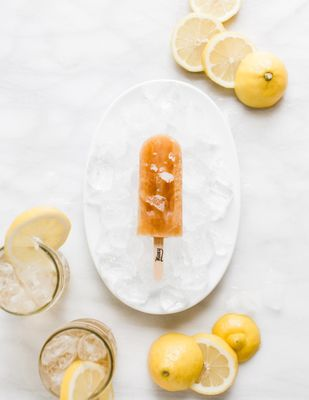pizza: (37, 318, 117, 400)
taco: (169, 2, 291, 109), (148, 332, 204, 392), (170, 14, 226, 73), (233, 51, 288, 109), (201, 32, 256, 89), (190, 333, 239, 396), (188, 0, 244, 23)
